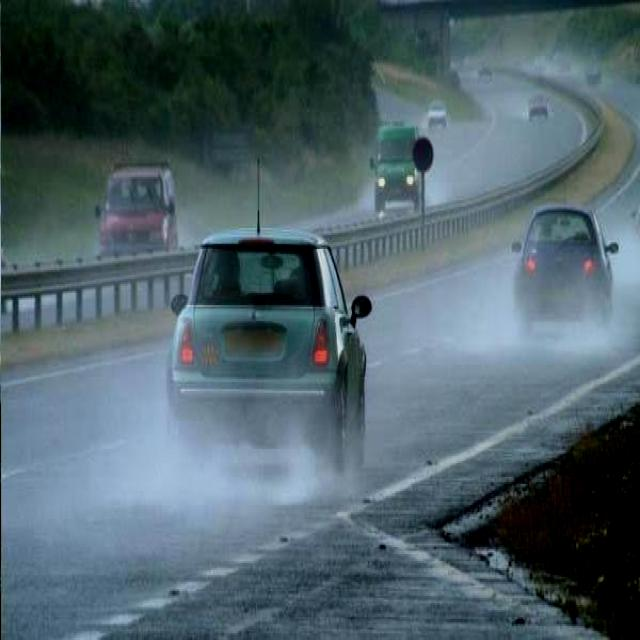Car: (168, 225, 374, 464), (509, 202, 616, 322), (89, 159, 182, 262)
Van: (368, 114, 425, 215)
